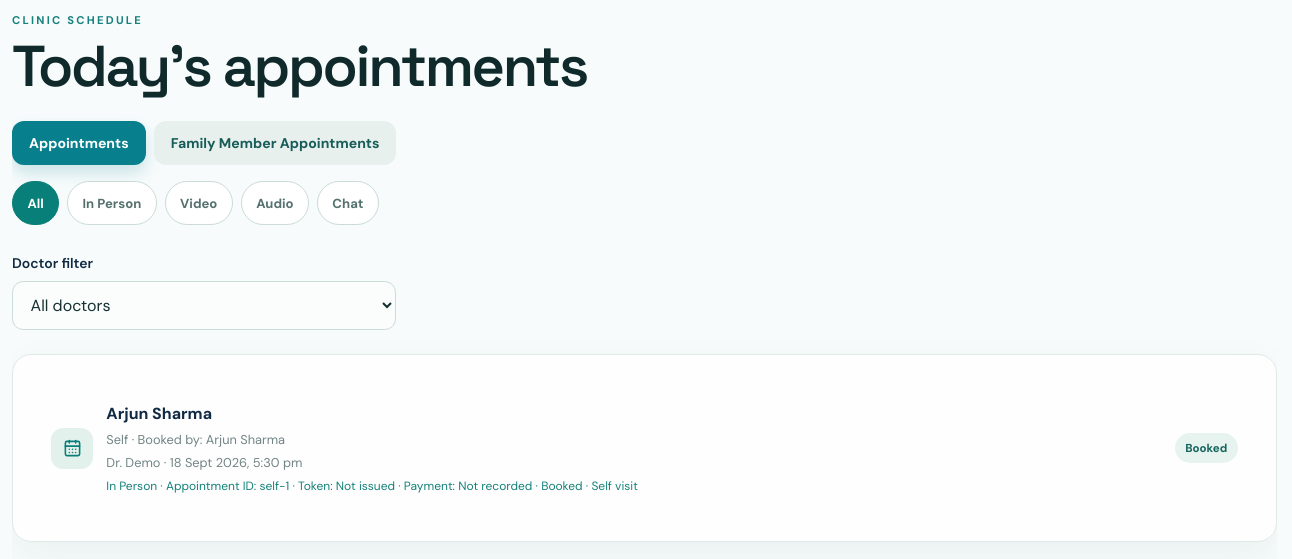
it: Receptionist appointment recipient sections › shows only family appointments with actual patient, booked-by, and relationship
Expected: the text "Arjun Sharma" is shown, [106, 403, 212, 424]
Click the tab "Family Member Appointments" at (275, 143), box [154, 121, 396, 166]
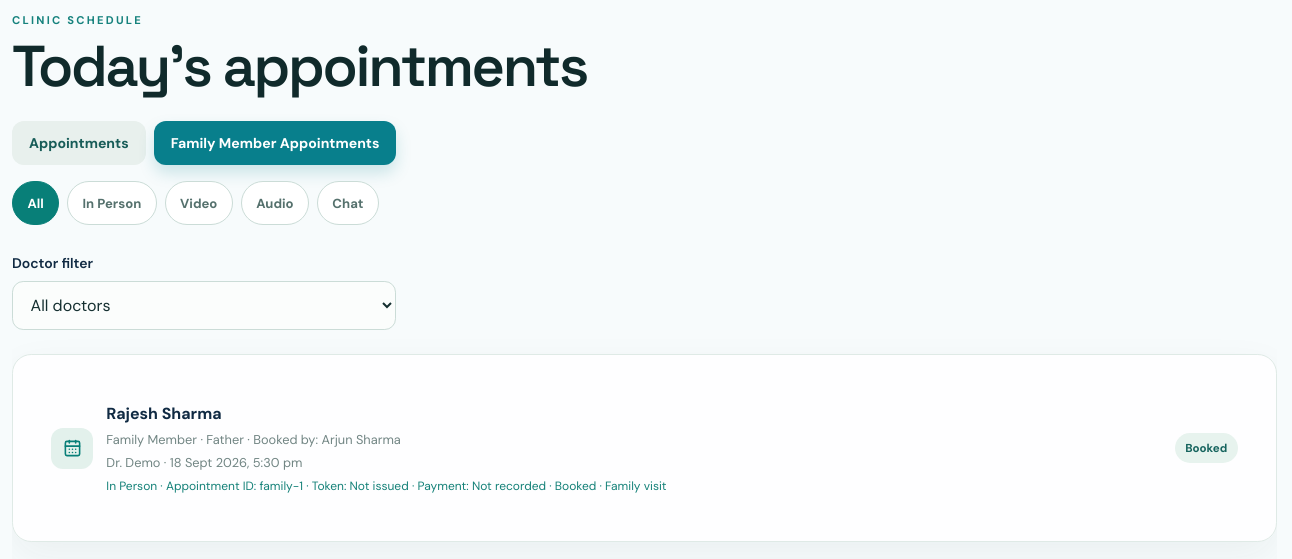
Expected: the text "Family Member · Father · Booked by: Arjun Sharma" is shown, [106, 431, 401, 448]
Expected: the text "Rajesh Sharma" is shown, [106, 403, 222, 424]
Expected: the link "Self visit" is gone
